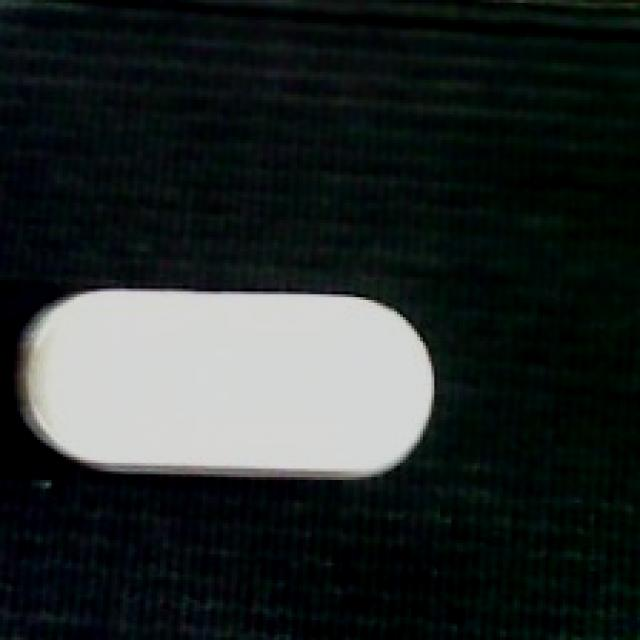no-defect: (14, 277, 440, 480)
